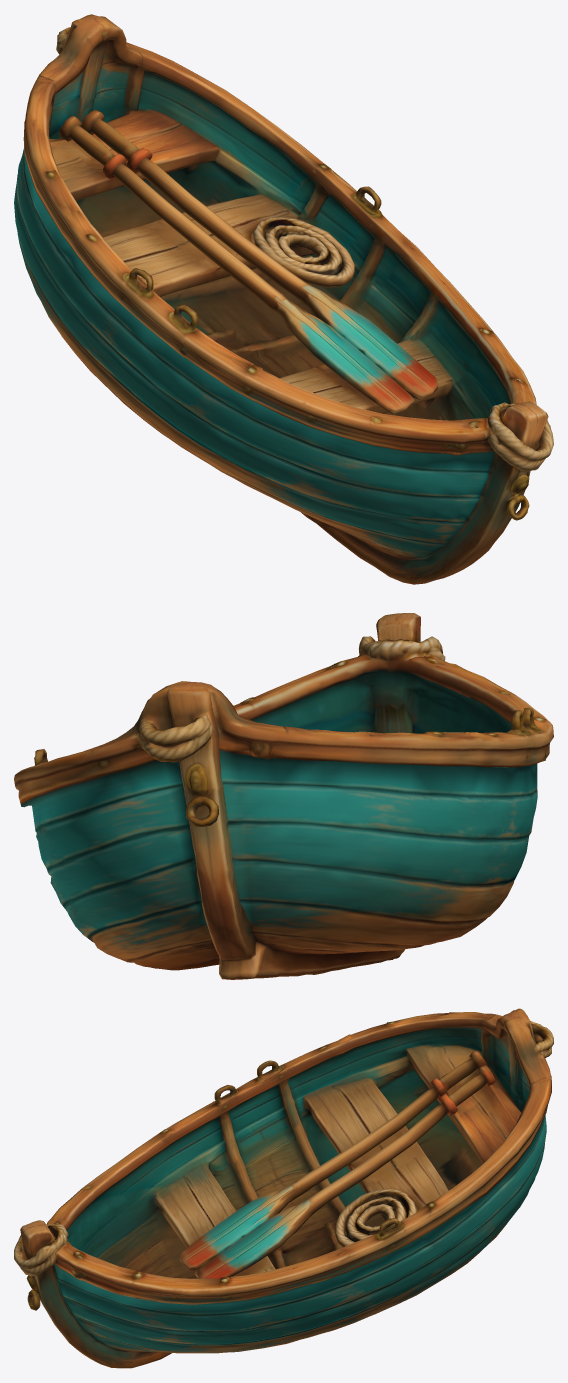
Rendered from rowboat.glb.
3 renders of one model, top to bottom at view 1: azimuth 30°, elevation 25°; view 2: azimuth 150°, elevation 25°; view 3: azimuth 270°, elevation 25°, orthographic. The views are drawn at different scales.
Visible parts, largest first — view 1: tripo_node_fe5144bb-7cb5-4de1-97b4-891c593fa91d; view 2: tripo_node_fe5144bb-7cb5-4de1-97b4-891c593fa91d; view 3: tripo_node_fe5144bb-7cb5-4de1-97b4-891c593fa91d.
Boxes of the visible parts, left/top/right/bottom form: tripo_node_fe5144bb-7cb5-4de1-97b4-891c593fa91d: left=14, top=14, right=553, bottom=584; tripo_node_fe5144bb-7cb5-4de1-97b4-891c593fa91d: left=14, top=613, right=553, bottom=979; tripo_node_fe5144bb-7cb5-4de1-97b4-891c593fa91d: left=14, top=1008, right=553, bottom=1368.
Size of the model in its own units: 0.593 by 0.6408 by 0.9775.
1 material, 1 textured.
